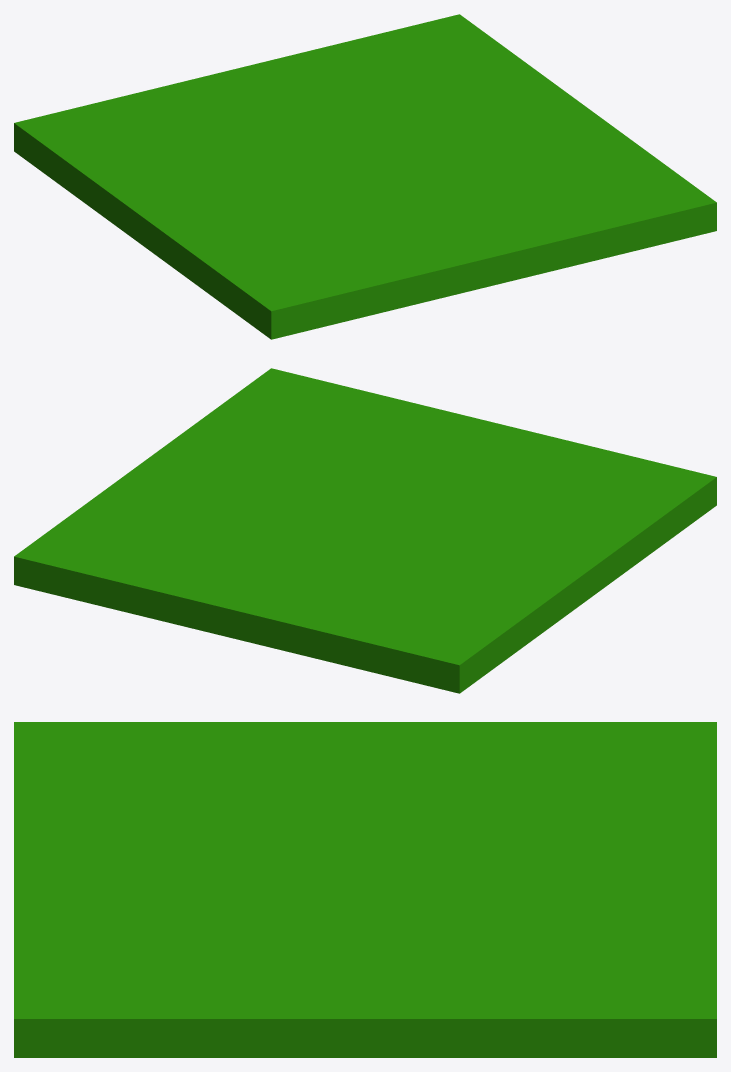
The model's file is grass.fbx.
3 views of the same model, one above another, from view 1: azimuth 30°, elevation 25°; view 2: azimuth 150°, elevation 25°; view 3: azimuth 270°, elevation 25° (orthographic). The views are drawn at different scales.
Parts seen in each view (by area): view 1: Cube.001; view 2: Cube.001; view 3: Cube.001.
Boxes of the visible parts, x1,y1,x2,y2 form: Cube.001: (14,14,716,339); Cube.001: (14,368,716,693); Cube.001: (14,722,716,1057).
Bounding box in the file's own units: 2000 × 122 × 2000.
